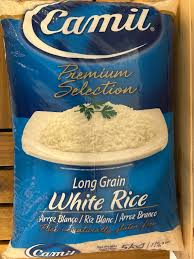arroz: (0, 1, 188, 254)
